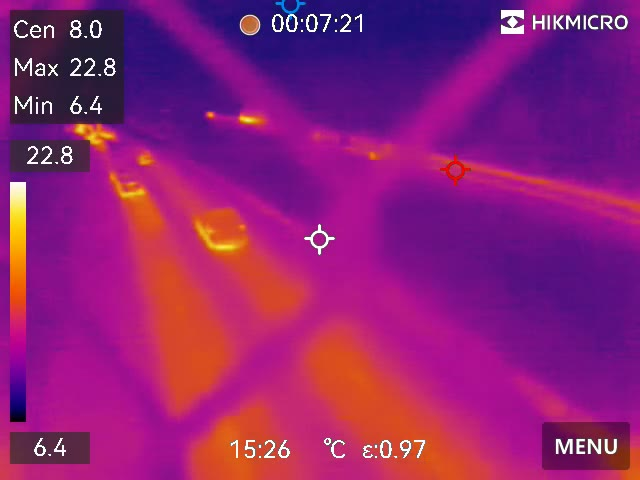vehicle: (190, 202, 251, 252), (108, 167, 148, 199)
